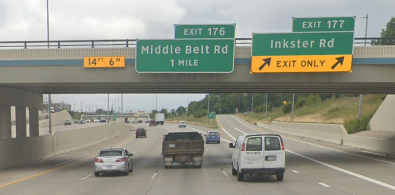1: (87, 57, 93, 68)
4: (90, 56, 98, 67)
6: (107, 56, 116, 68)
overheadsign: (83, 55, 125, 69)
